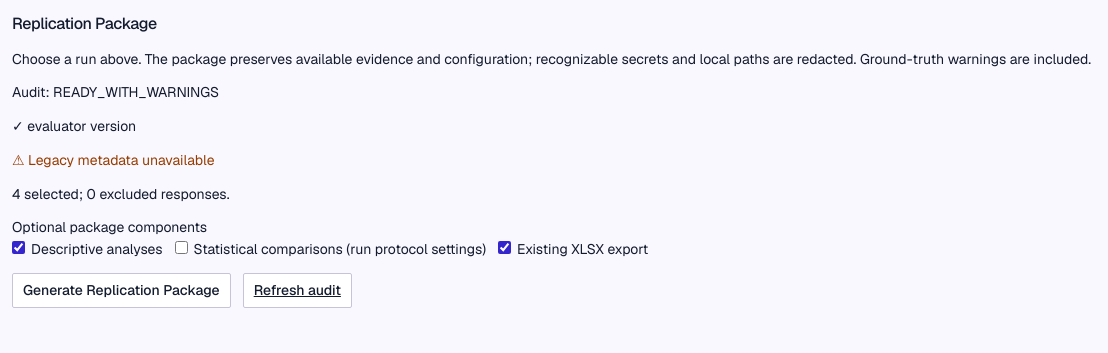
audit warnings, generation and download
Expected: the text "Audit: READY_WITH_WARNINGS" is shown, [12,84,219,102]
Expected: the text "⚠ Legacy metadata unavailable" is shown, [12,151,214,169]
Click the button "Generate Replication Package" at (121, 290), box [12,273,231,308]
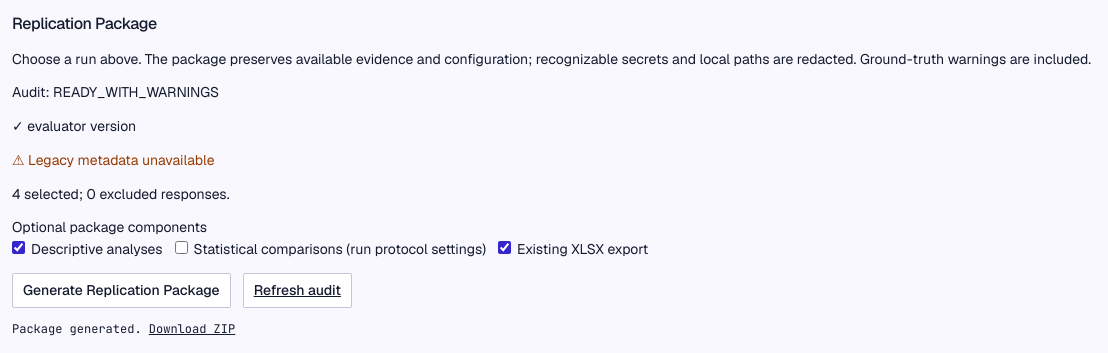
Click the checkbox labelled "Descriptive analyses" at (18, 247), box [12,241,25,254]
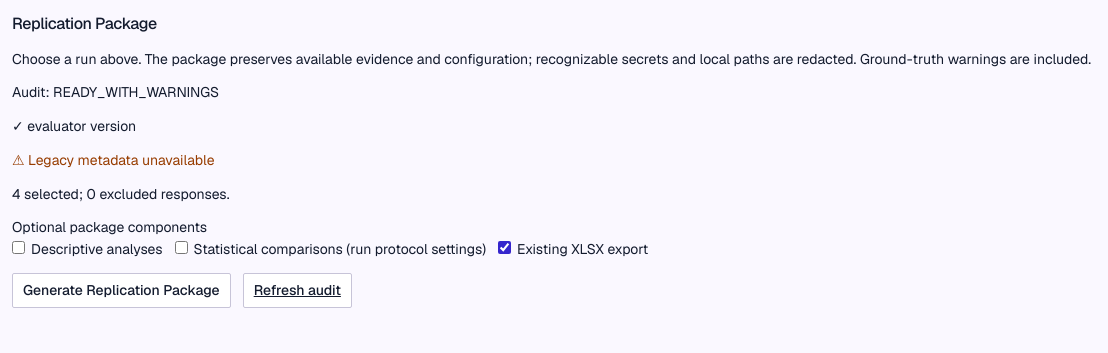
Now the link "Download ZIP" is gone
